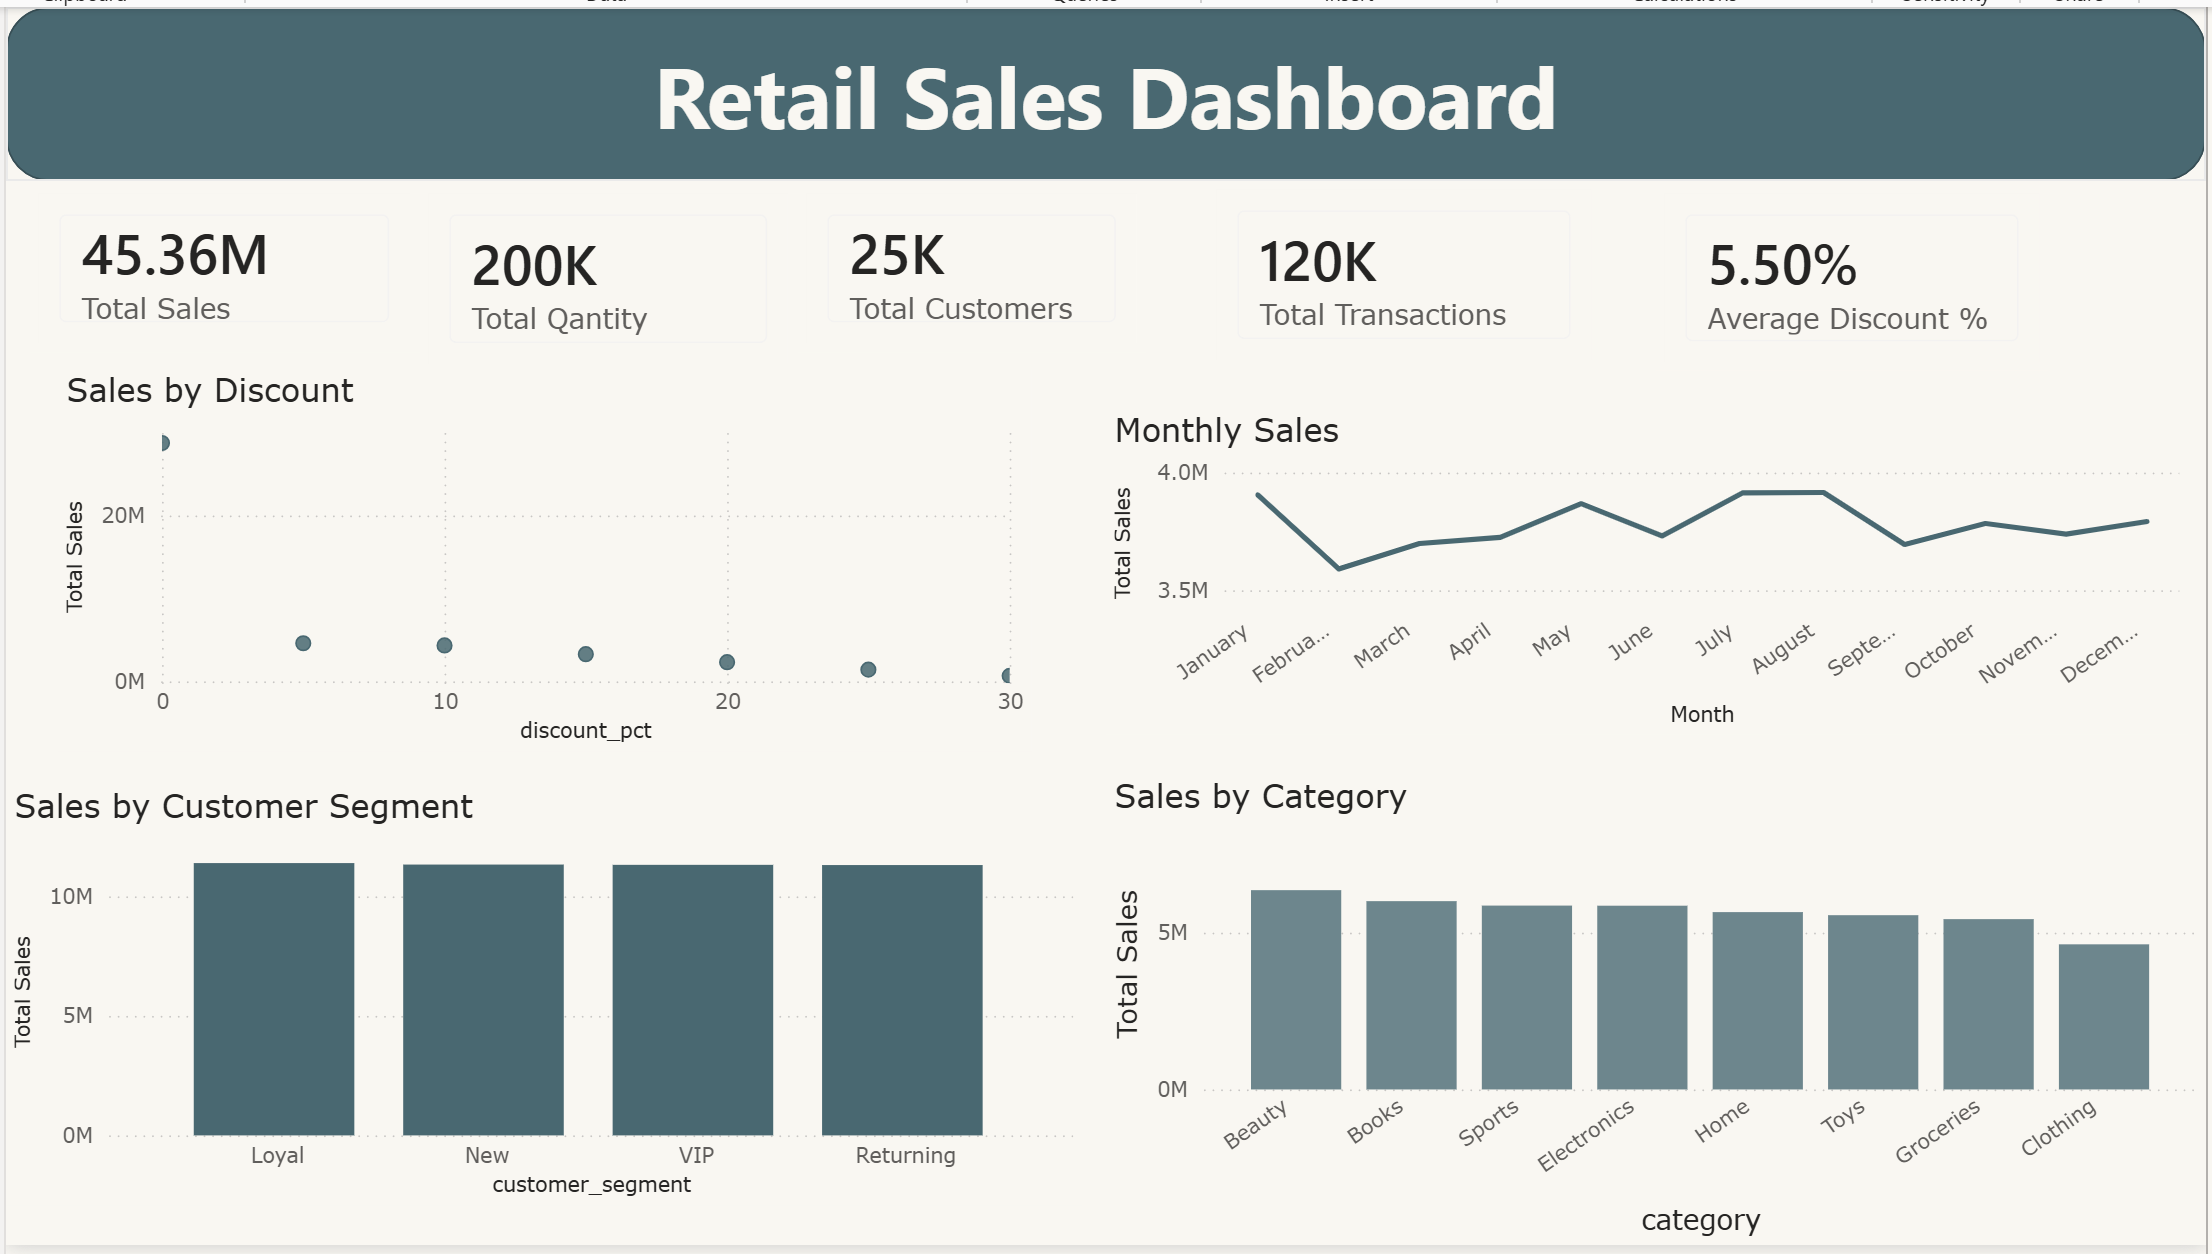

The page's visual inventory and layout, read from the dashboard file:
{"tool":"powerbi","page":{"name":"Page 1","canvas":[1280,720],"ordinal":0},"visuals":[{"type":"cardVisual","fields":{"Data":["RetialSales.Total Sales"]},"box":[14,103.6,226.9,97.7],"z":0},{"type":"cardVisual","fields":{"Data":["RetialSales.Total Qantity"]},"box":[240.9,103.6,219.9,109.4],"z":1000},{"type":"cardVisual","fields":{"Data":["RetialSales.Total Transactions"]},"box":[699.3,101.2,228.1,109.4],"z":2000},{"type":"cardVisual","fields":{"Data":["RetialSales.Total Customers"]},"box":[460.8,103.6,202.5,97.7],"z":3000},{"type":"cardVisual","fields":{"Data":["RetialSales.Average Discount"]},"box":[960,103.6,228.1,108.2],"z":4000},{"type":"lineChart","title":"Monthly Sales","fields":{"Category":["RetialSales.transaction_date.Variation.Date Hierarchy.Month"],"Y":["RetialSales.Total Sales"]},"box":[640,233.9,629.5,189.7],"z":5000},{"type":"columnChart","title":"Sales by Category","fields":{"Category":["RetialSales.category"],"Y":["RetialSales.Total Sales"]},"box":[640,446.8,640,273.5],"z":6000},{"type":"columnChart","title":"Sales by Customer Segment","fields":{"Y":["RetialSales.Total Sales"],"Category":["RetialSales.customer_segment"]},"box":[0,452.7,626,244.4],"z":7000},{"type":"scatterChart","title":"Sales by Discount","fields":{"Y":["RetialSales.Total Sales"],"X":["RetialSales.discount_pct"]},"box":[30.3,210.6,566.7,222.3],"z":8000},{"type":"shape","box":[0,0,1280,101.2],"z":8001}]}

Visuals, with their boxes in screenshot pixels (x1, y1, x2, y2), scaled from the page's 1280x720 canvas onto the 2212x1254 screenshot:
cardVisual - RetialSales.Total Sales: 24:180:416:351
cardVisual - RetialSales.Total Qantity: 416:180:796:371
cardVisual - RetialSales.Total Transactions: 1208:176:1603:367
cardVisual - RetialSales.Total Customers: 796:180:1146:351
cardVisual - RetialSales.Average Discount: 1659:180:2053:369
"Monthly Sales" lineChart: 1106:407:2194:738
"Sales by Category" columnChart: 1106:778:2211:1253
"Sales by Customer Segment" columnChart: 0:788:1082:1214
"Sales by Discount" scatterChart: 52:367:1032:754
shape: 0:0:2211:176
